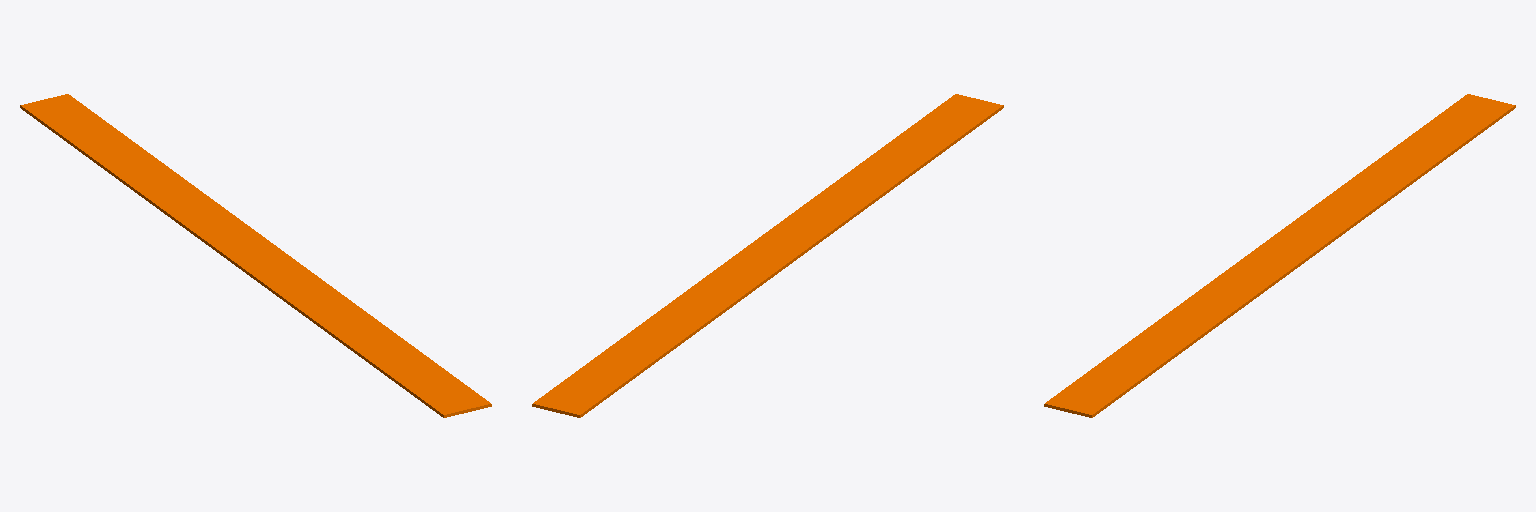
URDF robot description (ypaddle2D):
<robot name="ypaddle2D">
    
  <link name="base_link">
    <inertial>
      <origin rpy="0 0 0" xyz="0 0 0"/>
       <mass value="0"/>
       <inertia ixx="0" ixy="0" ixz="0" iyy="0" iyz="0" izz="0"/>
    </inertial>
  </link>

  <link name="x_link">
    <inertial>
      <origin rpy="0 0 0" xyz="0 0 0"/>
       <mass value="0.0001"/>
       <inertia ixx="0.0001" ixy="0" ixz="0" iyy="0.0001" iyz="0" izz="0.0001"/>
    </inertial>
  </link>


  <link name="y_link">
    <inertial>
      <origin rpy="0 0 0" xyz="0 0 0"/>
       <mass value="0.0001"/>
       <inertia ixx="0.0001" ixy="0" ixz="0" iyy="0.0001" iyz="0" izz="0.0001"/>
    </inertial>
  </link>


  <link name="theta_link">
    <inertial>
      <origin rpy="0 0 0" xyz="0 0 0"/>
       <mass value="1.0"/>
       <inertia ixx="0.0001" ixy="0" ixz="0" iyy="0.0001" iyz="0" izz="0.0001"/>
    </inertial>

    <visual>
      <origin rpy="0 0 0" xyz="0 0 0"/>
      <geometry>
        <box size="3.25 50 0.2" />      
      </geometry>
      <material name="white">
        <color rgba="1 0.5 0 1"/>
      </material>
    </visual>
    
    <collision>
      <origin rpy="0 0 0" xyz="0 0 0"/>
      <geometry>
        <box size="3.25 50 0.2" />
      </geometry>
    </collision>
  </link>

  <joint name = "x_prismatic" type = "prismatic">
    <origin xyz = "0.0 0.0 0.0" rpy = "0 0 0"/> 
    <parent link = "base_link"/>
    <child link= "x_link"/>
    <axis xyz = "1 0 0"/>
    <limit effort="1.0" lower="-10000" upper="10000" velocity="10000" />
    <dynamics damping = "0.0" friction="0.0" />
  </joint>

  <joint name = "y_prismatic" type = "prismatic">
    <origin xyz = "0.0 0.0 0.0" rpy = "0 0 0"/> 
    <parent link = "x_link" />
    <child link= "y_link"/>
    <axis xyz = "0 1 0" />
    <limit effort="1.0" lower="-10000" upper="10000" velocity="10000" />
    <dynamics damping = "0.0" friction="0.0" />
  </joint>

   <joint name = "theta_revolute" type = "revolute">
    <origin xyz = "0.0 0.0 0.0" rpy = "0 0 0"/> 
    <parent link = "y_link" />
    <child link= "theta_link"/>
    <axis xyz = "0 0 1" />
    <limit effort="1.0" lower="-10000" upper="10000" velocity="10000" />
    <dynamics damping = "0.0" friction="0.0" />
  </joint>

    
</robot>

--- Render facts (derived) ---
The picture shows the robot from 3 angles, left to right: view 1: azimuth 30°, elevation 25°; view 2: azimuth 150°, elevation 25°; view 3: azimuth 330°, elevation 25°; orthographic projection.
Model ypaddle2D with 4 links and 3 joints (1 revolute, 2 prismatic), rooted at base_link, posed all joints at 0.
Links seen in each view (by area): view 1: theta_link; view 2: theta_link; view 3: theta_link.
Link boxes in pixels (box(x1,y1,x2,y2)): theta_link: box(20, 94, 491, 417); theta_link: box(532, 94, 1003, 417); theta_link: box(1044, 94, 1515, 417).
Bounding box of the posed robot: 3.25 × 50 × 0.2 m (x, y, z).
Geometry: primitives only (box / cylinder / sphere), no mesh files.